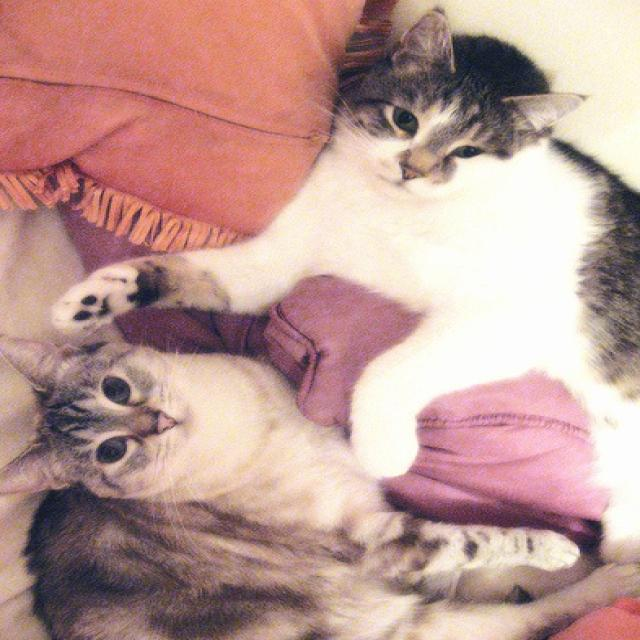cat: (49, 5, 638, 563), (1, 335, 636, 639)
